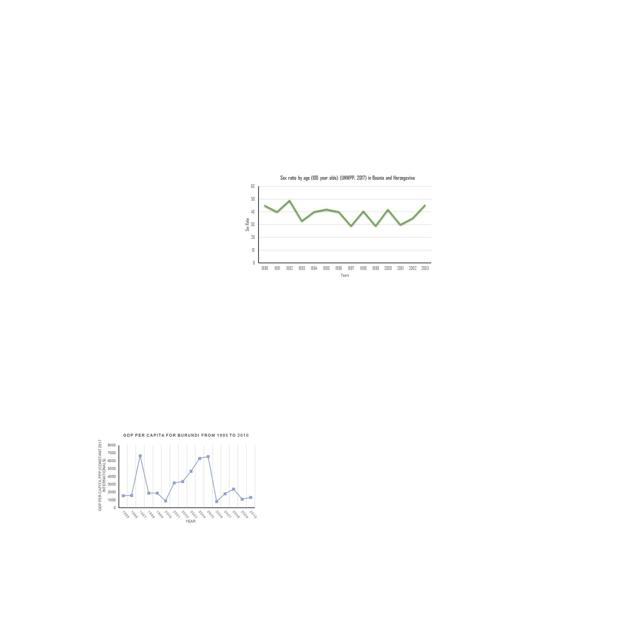Graph: (244, 174, 433, 279), (96, 430, 258, 524)
